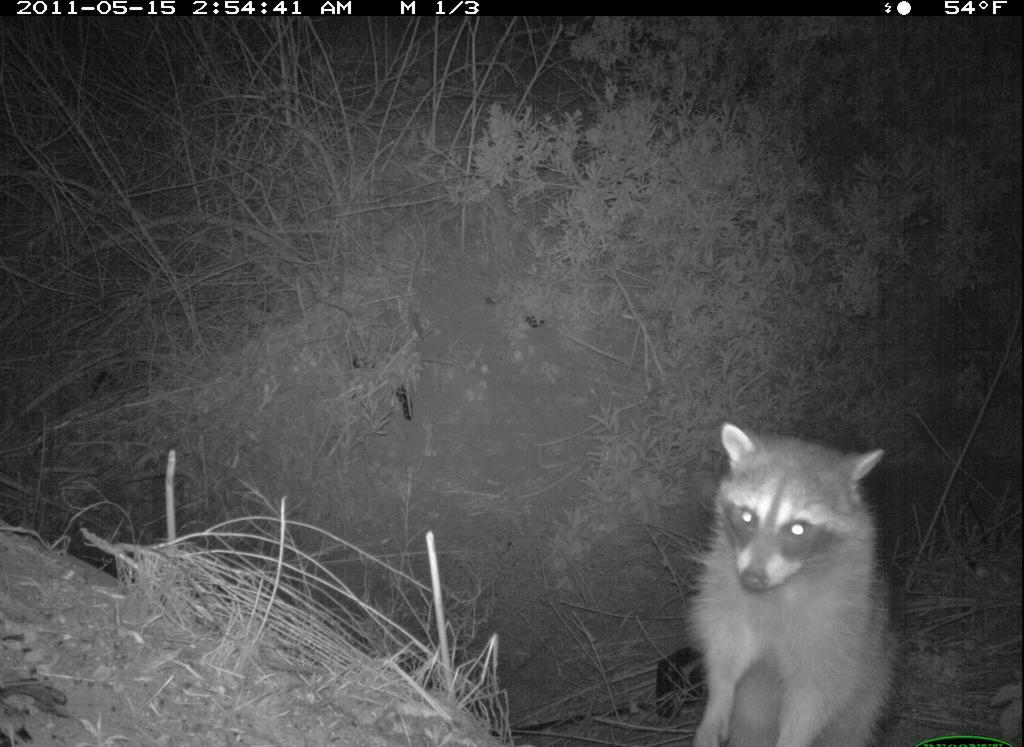raccoon: (679, 418, 913, 745)
